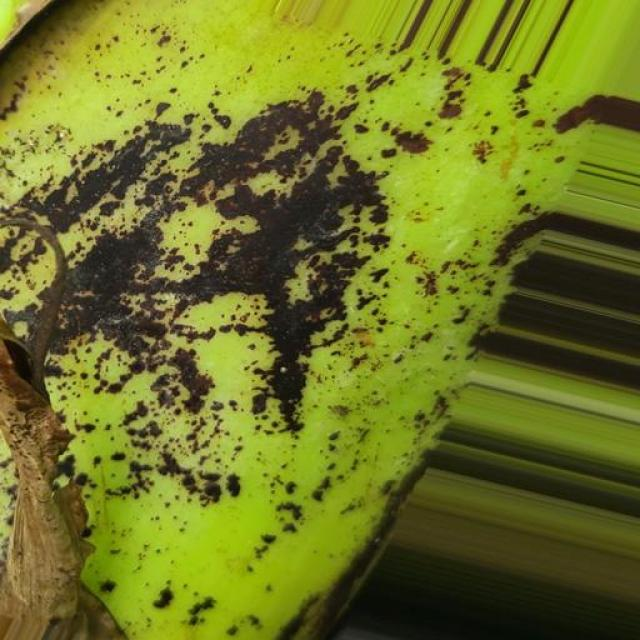Anthracnose: (5, 1, 585, 640)
